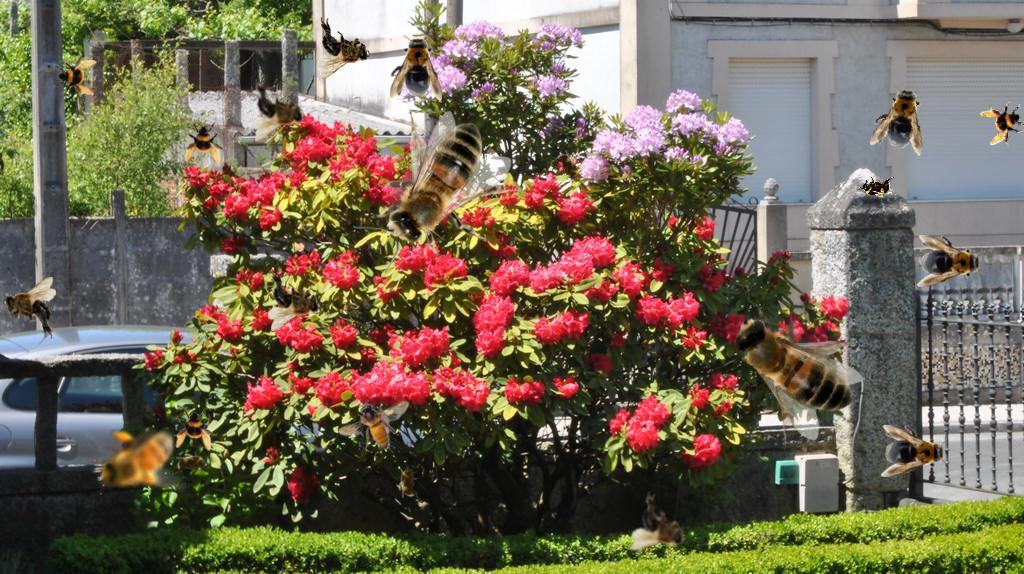Bee: (703, 283, 865, 450), (353, 111, 520, 273), (94, 427, 187, 495), (627, 489, 696, 565), (869, 80, 933, 156), (338, 400, 409, 450), (390, 33, 442, 101), (917, 235, 985, 287), (881, 425, 949, 477), (252, 79, 305, 141), (317, 17, 370, 79), (3, 277, 56, 339), (268, 269, 321, 331), (976, 95, 1024, 153), (53, 53, 97, 97), (174, 407, 218, 451), (183, 121, 227, 165), (548, 144, 588, 190), (511, 302, 551, 324), (398, 462, 420, 502), (856, 176, 896, 198), (172, 453, 212, 475)
